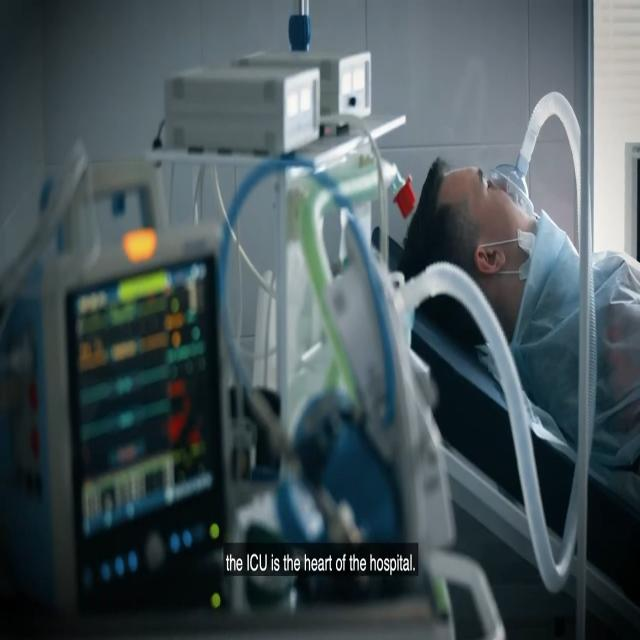Patient: (384, 81, 637, 419)
